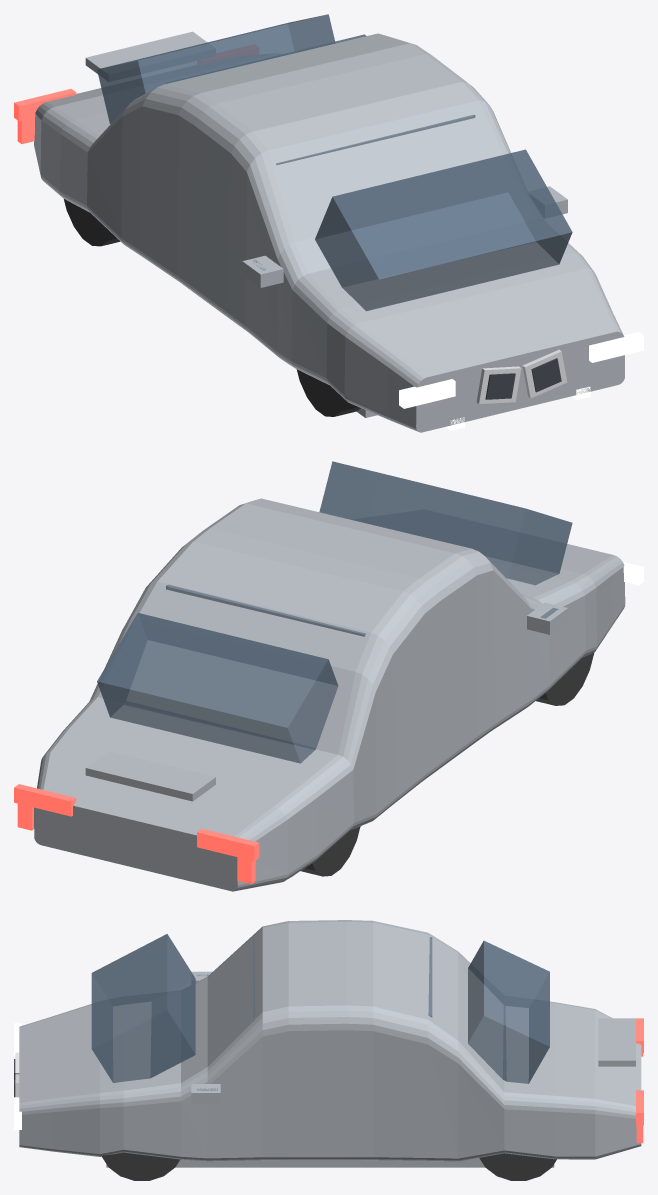
The model's file is bmw3.glb.
The picture shows the model from 3 angles, top to bottom: view 1: azimuth 30°, elevation 25°; view 2: azimuth 150°, elevation 25°; view 3: azimuth 270°, elevation 25°; orthographic projection. The views are drawn at different scales.
Visible parts, largest first — view 1: bmw3; view 2: bmw3; view 3: bmw3.
Boxes of the visible parts, left/top/right/bottom form: bmw3: left=14, top=14, right=643, bottom=432; bmw3: left=14, top=461, right=643, bottom=891; bmw3: left=14, top=920, right=643, bottom=1180.
Size of the model in its own units: 2.14 by 1.4 by 4.7.
